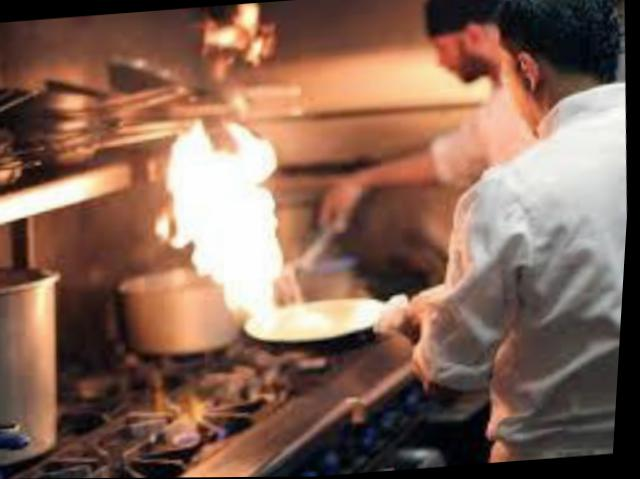fire: (134, 112, 349, 337)
